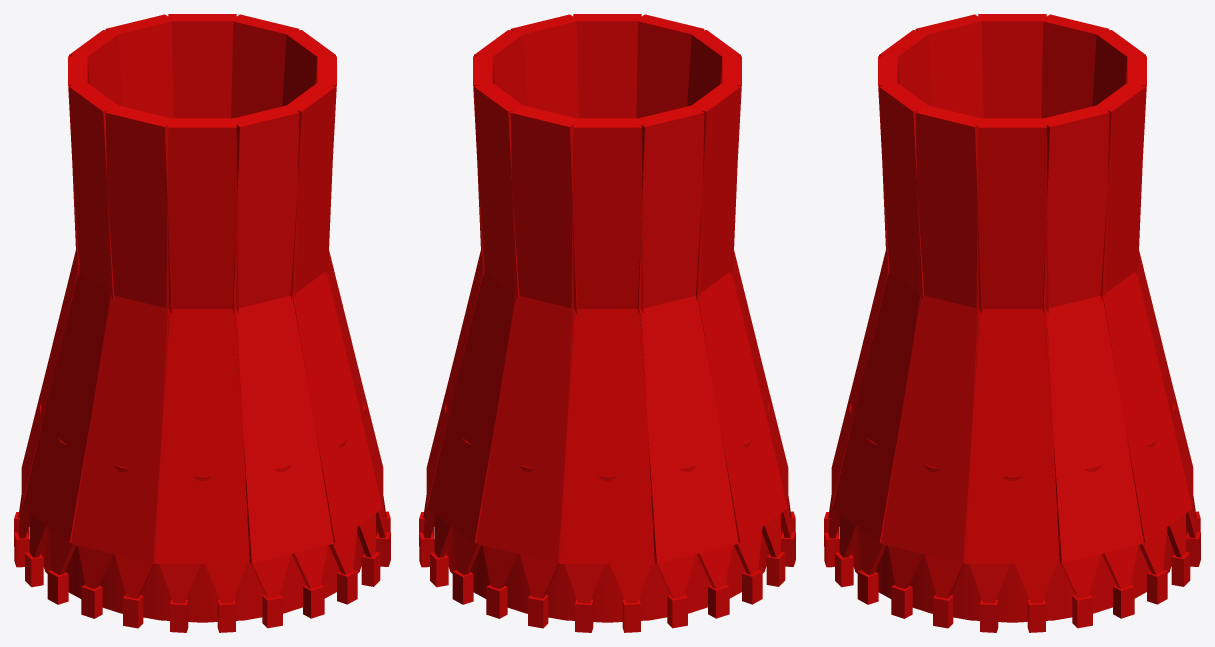
The model's file is SM_Bld_Cooling_Tower_01_Collision.fbx.
3 views of the same model, side by side, from view 1: azimuth 30°, elevation 25°; view 2: azimuth 150°, elevation 25°; view 3: azimuth 270°, elevation 25° (orthographic).
Visible parts, largest first — view 1: SM_Bld_Cooling_Tower_01_Collision; view 2: SM_Bld_Cooling_Tower_01_Collision; view 3: SM_Bld_Cooling_Tower_01_Collision.
Boxes of the visible parts, x1,y1,x2,y2 form: SM_Bld_Cooling_Tower_01_Collision: [14, 14, 390, 632]; SM_Bld_Cooling_Tower_01_Collision: [419, 14, 795, 632]; SM_Bld_Cooling_Tower_01_Collision: [824, 14, 1200, 632].
Bounding box in the file's own units: 3436 × 4870 × 3436.
